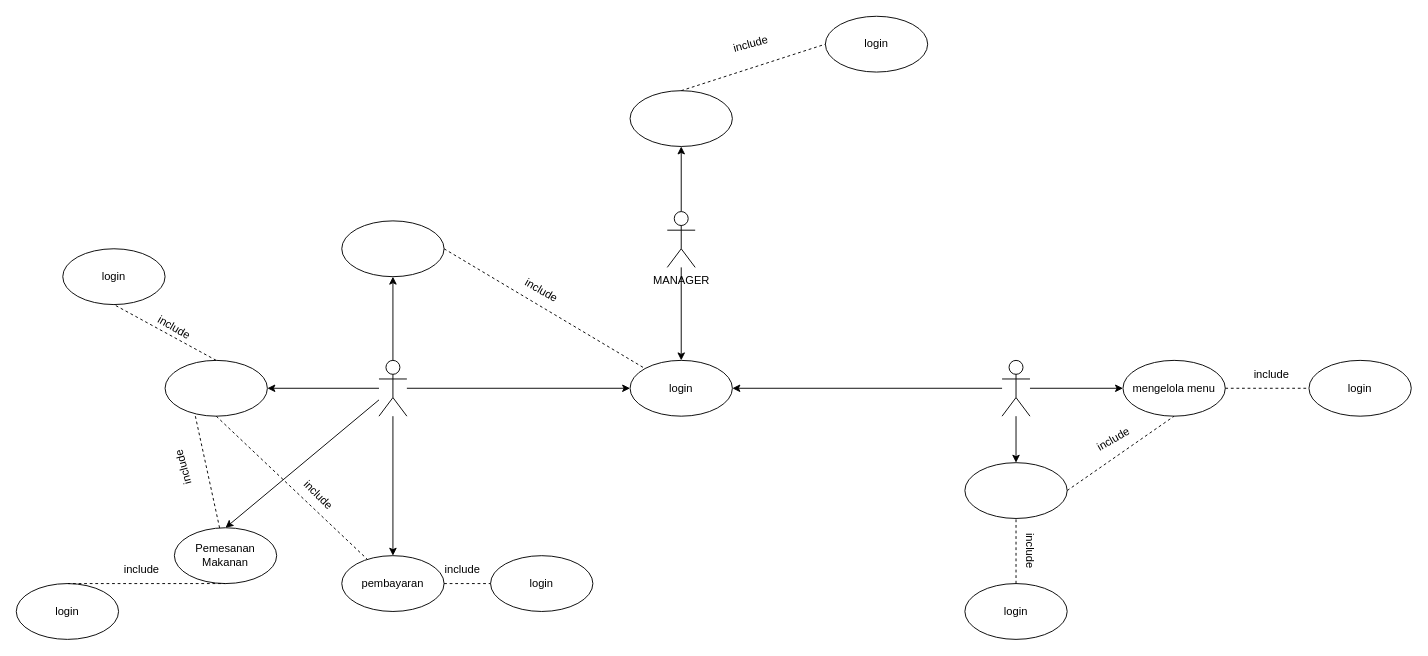
Some shapes in this 1428 by 656 pixel diagram are drawn without their labels. The shapes that lost their labels are listed below. From the top down, each one's centre as x and y in pixels, then its label:
At pixel 680 118: "melihat laporan".
At pixel 392 248: "registrasi".
At pixel 215 387: "Melihat status pesanan".
At pixel 392 387: "BUYER".
At pixel 1015 387: "ADMIN".
At pixel 1015 490: "memproses pesanan".
